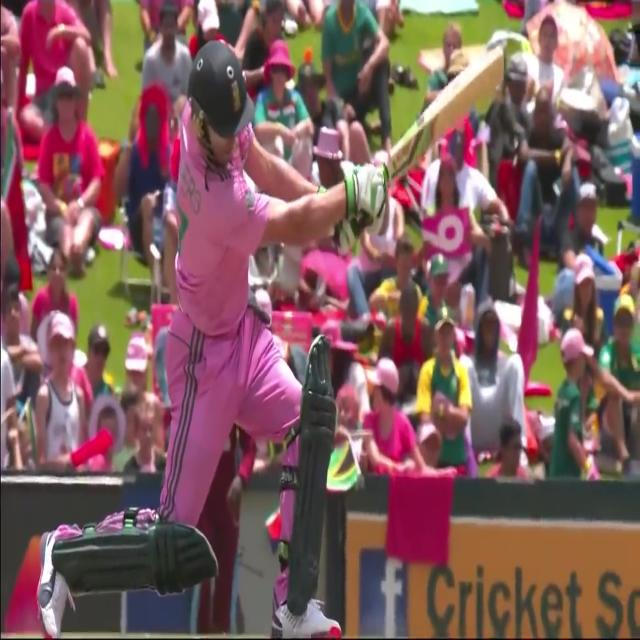Ball: (31, 31, 382, 640)
